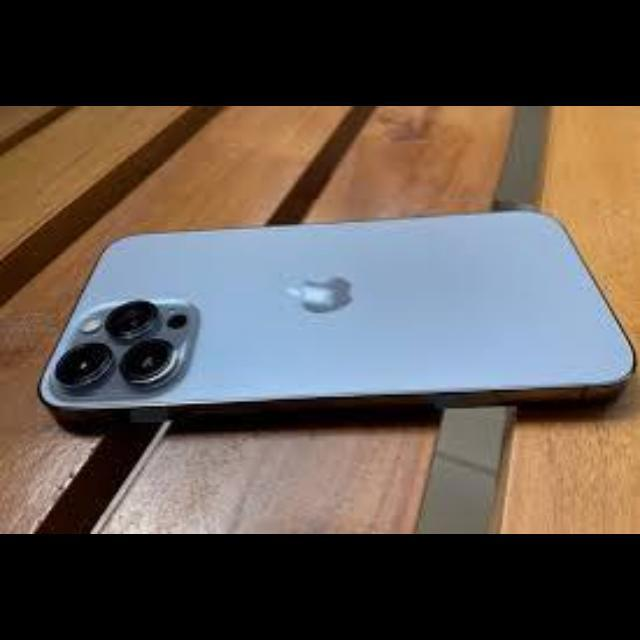Phone: (37, 211, 637, 434)
